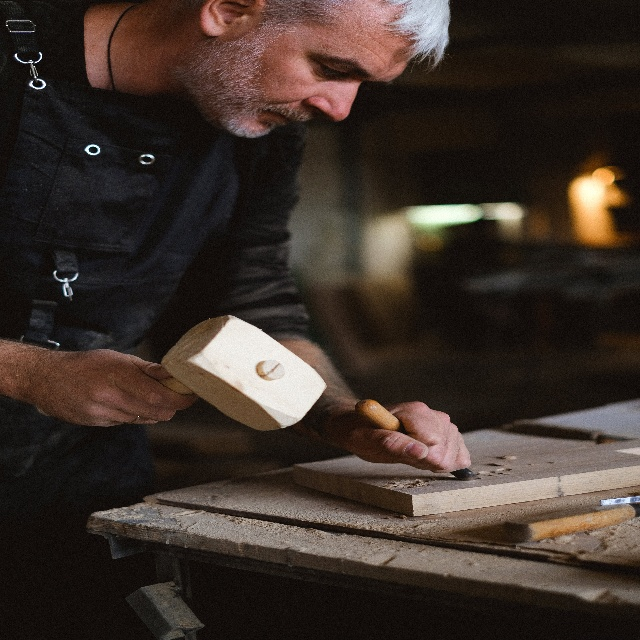Sin_guantes: (44, 341, 195, 429), (328, 389, 473, 468)
